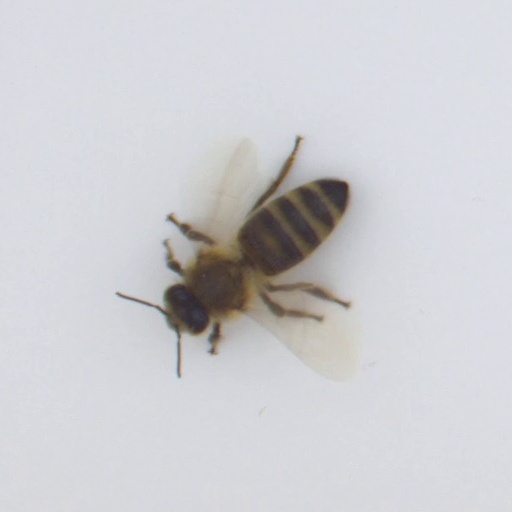Bee: (143, 157, 374, 348)
Thorax: (190, 250, 246, 318)
